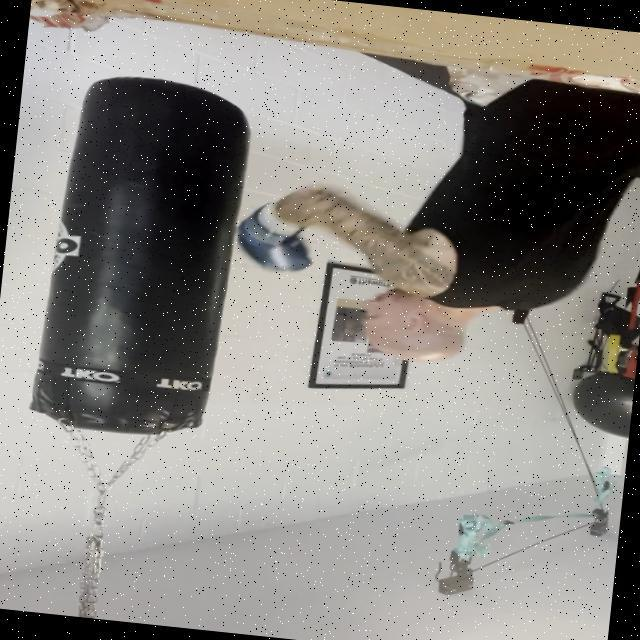bag: (21, 67, 282, 444)
hook: (221, 175, 595, 396)
